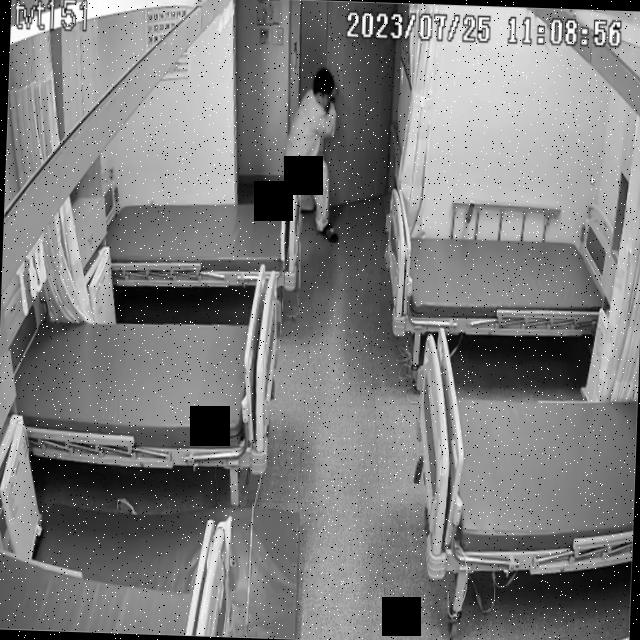bed: (412, 328, 640, 580), (9, 307, 278, 469), (382, 215, 620, 342), (106, 185, 298, 290)
danger: (282, 68, 346, 242)
patient: (281, 66, 345, 240)
